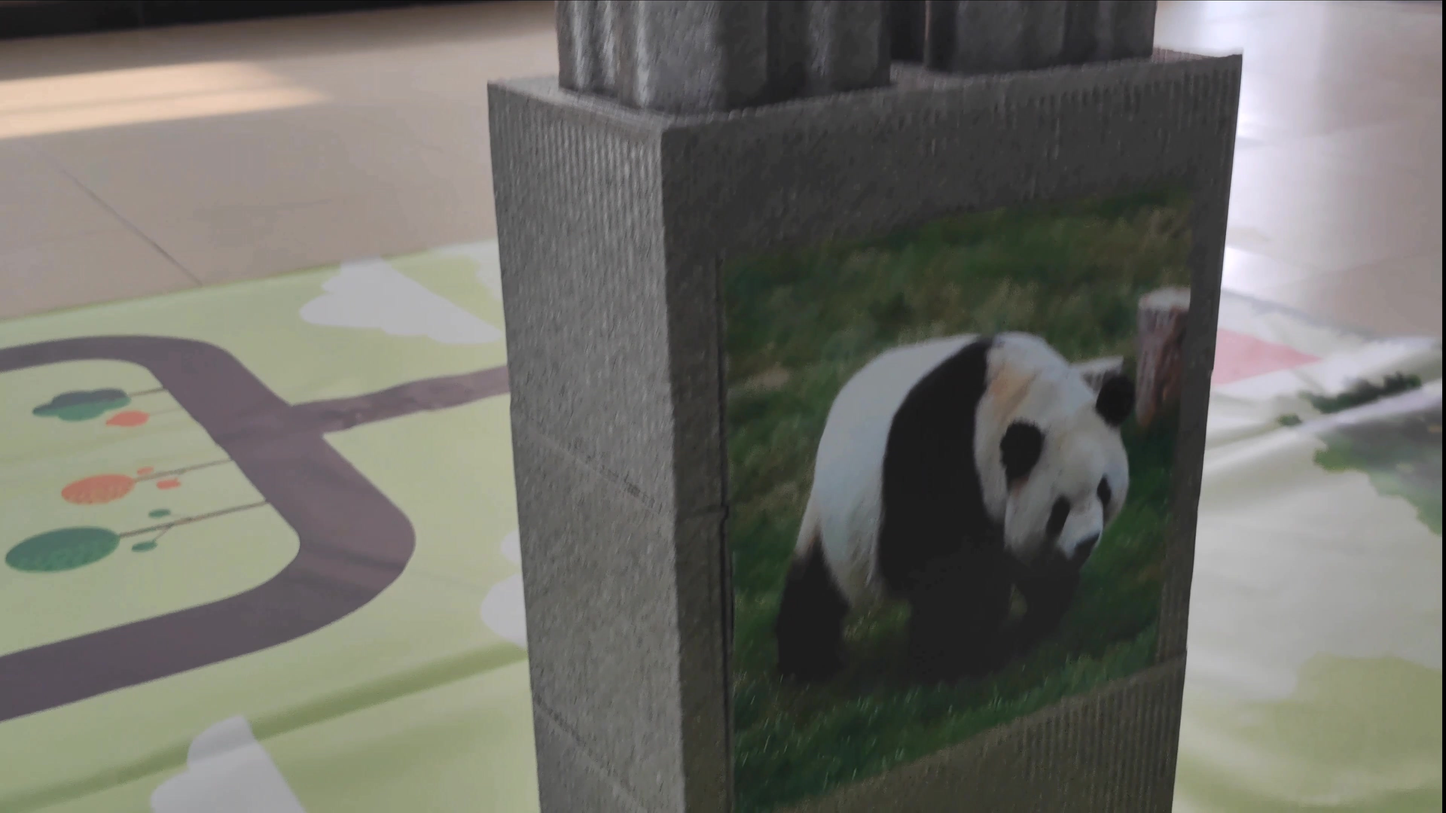panda: (749, 288, 1158, 713)
